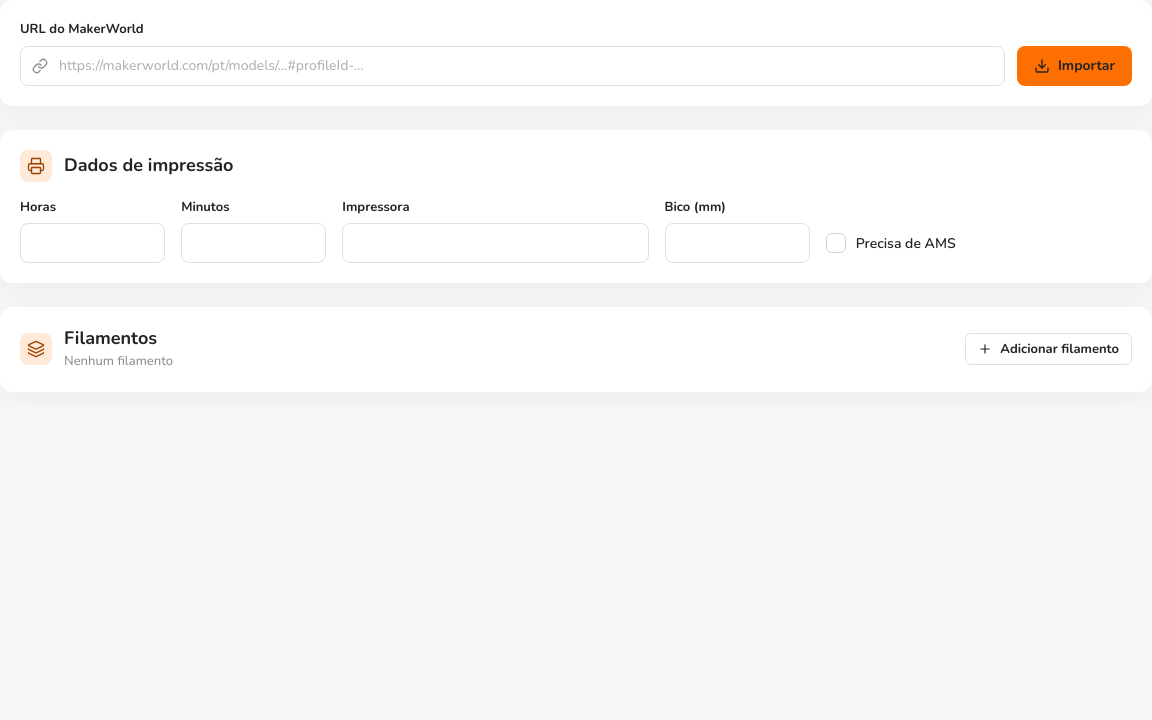
PrintProfileImport › fills the form from the import
Type "https://makerworld.com/pt/models/3007827-sea-animals-set?from=recommend#profileId-3387944" into the field labelled "URL do MakerWorld" at (512, 66), box [20,46,1005,86]
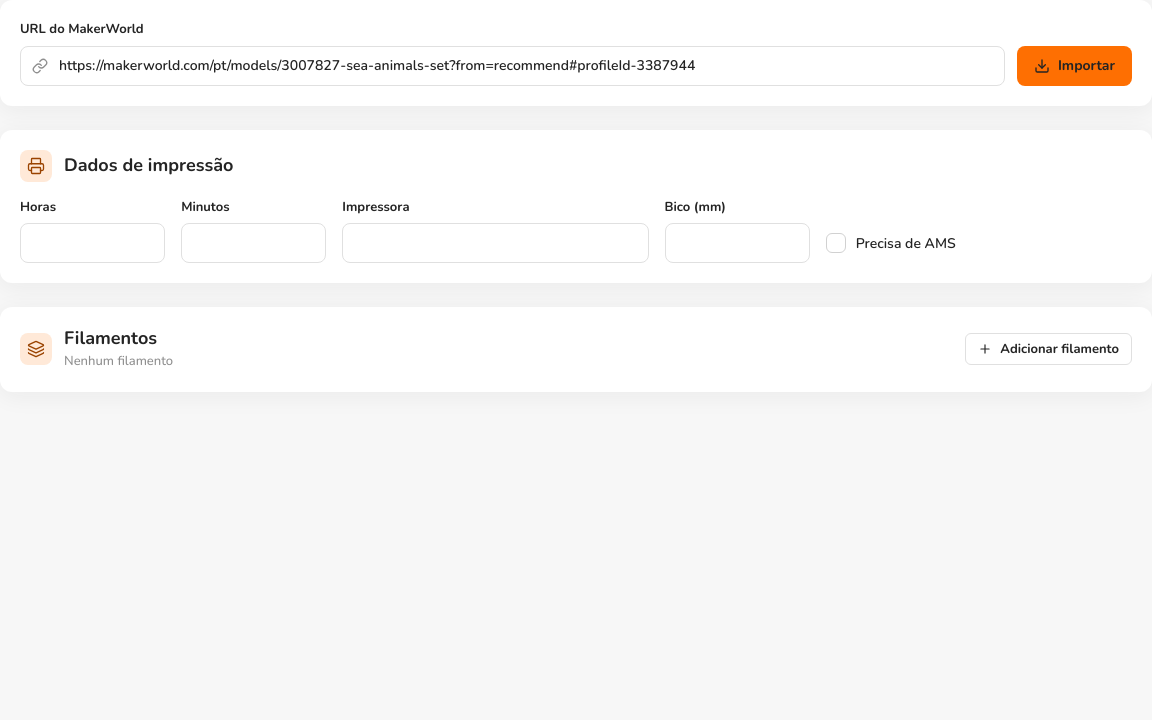
Click the button "Importar" at (1074, 66), box [1017,46,1132,86]
(page scrolled)
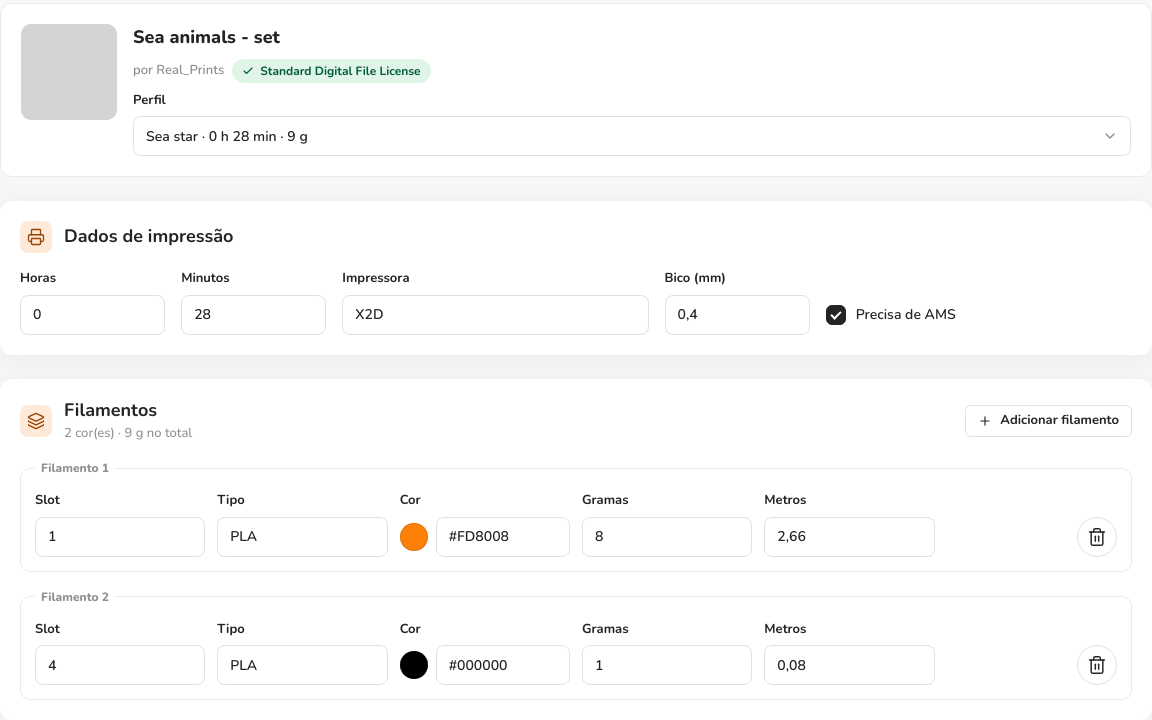
Check: the dropdown labelled "Perfil" is shown, box [133,116,1131,156]
Check: the checkbox labelled "Precisa de AMS" is checked, box [826,304,846,324]
Check: the number of elements "Filamento 1 Slot Tipo Cor Gramas Metros" is 2, box [20,459,1132,572]; [20,588,1132,700]
